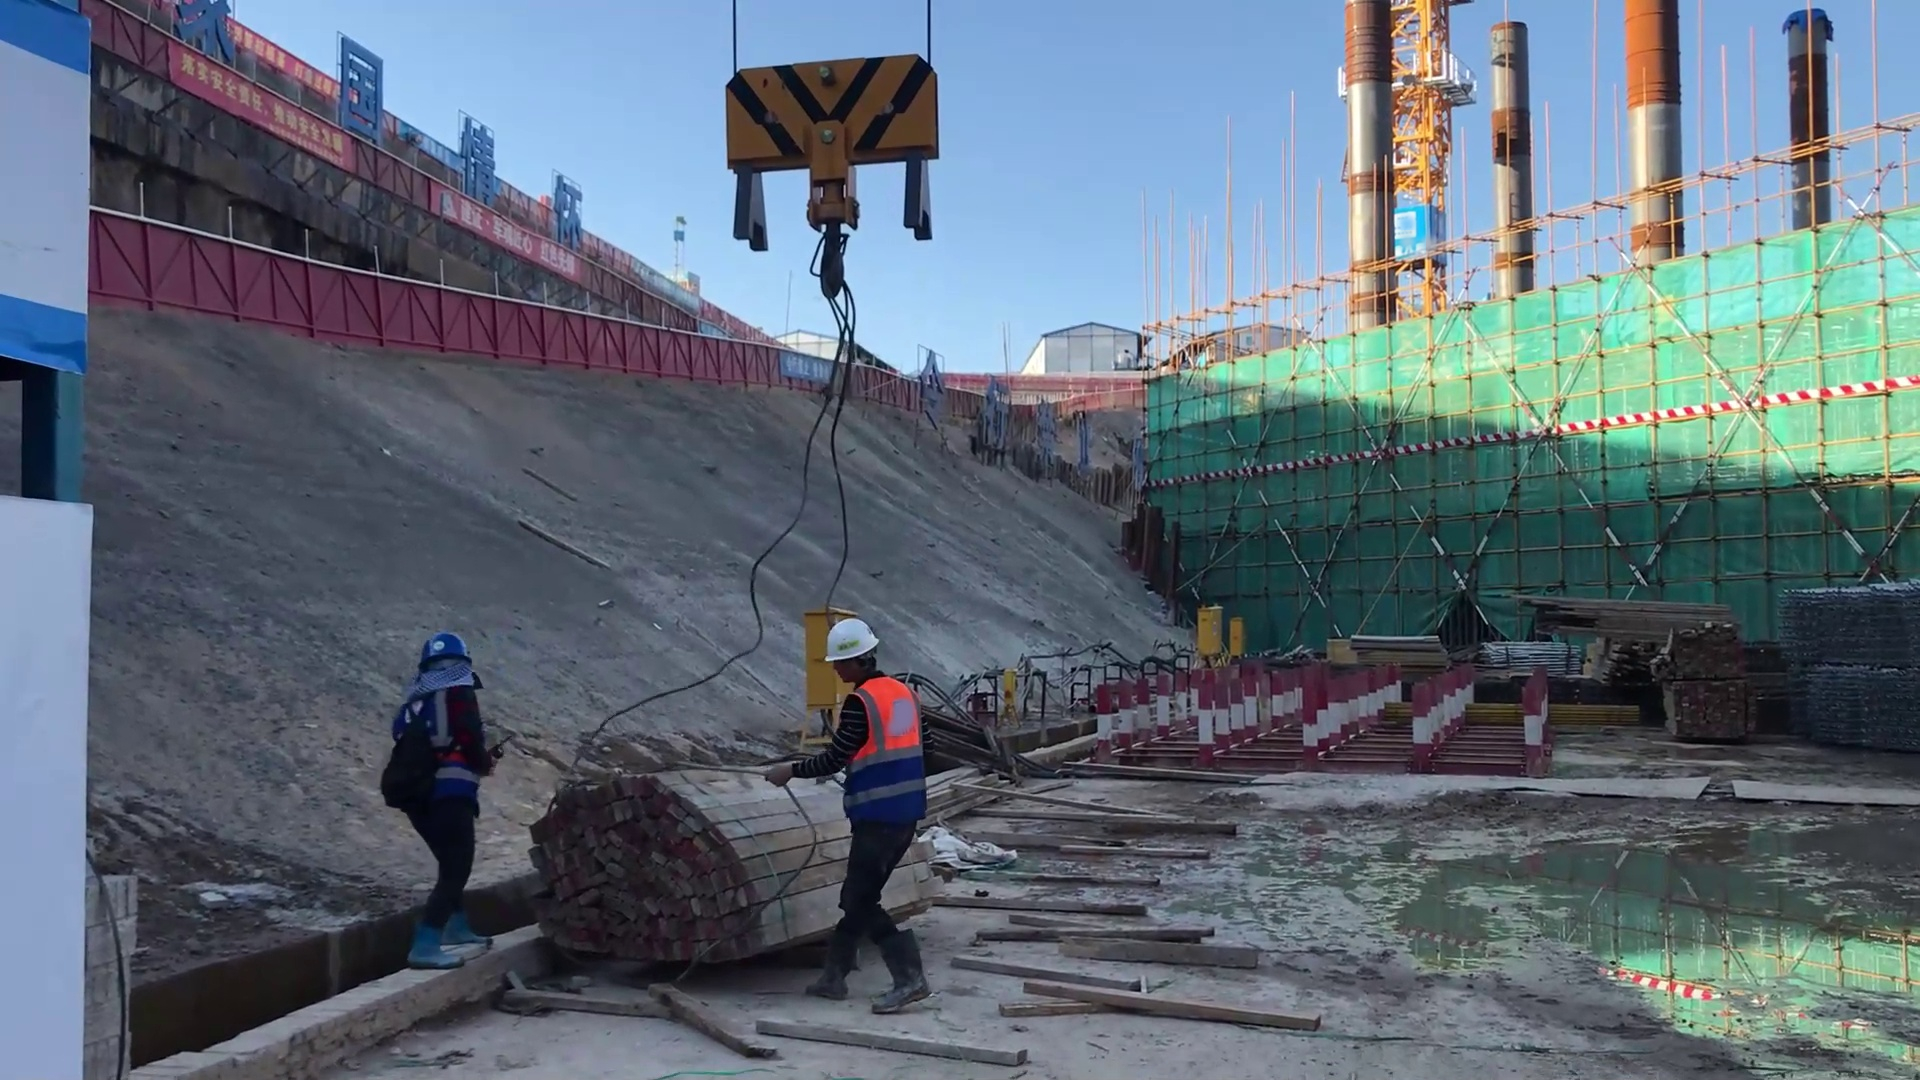ebox: (1189, 604, 1221, 658), (1225, 617, 1245, 653)
fence: (85, 222, 522, 375), (515, 303, 795, 380)
helmet: (807, 601, 884, 670), (400, 627, 479, 691)
hook: (718, 58, 937, 244)
person: (754, 598, 933, 1016), (385, 623, 494, 980)
scaffold: (1770, 575, 1915, 765)
slogan: (121, 29, 386, 197)
vest: (834, 683, 927, 811)
wood: (1010, 723, 1300, 1064), (519, 779, 728, 993), (1497, 586, 1726, 648)
